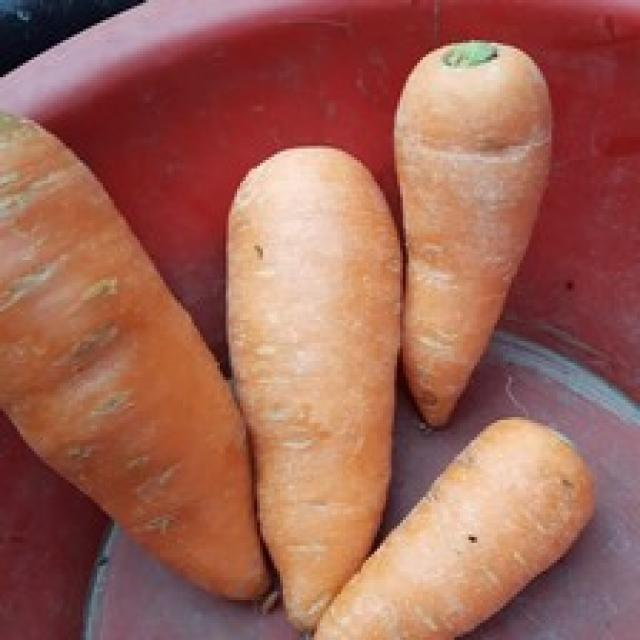carrot: (2, 111, 274, 608), (222, 146, 402, 634), (314, 417, 603, 640), (398, 31, 553, 424)
